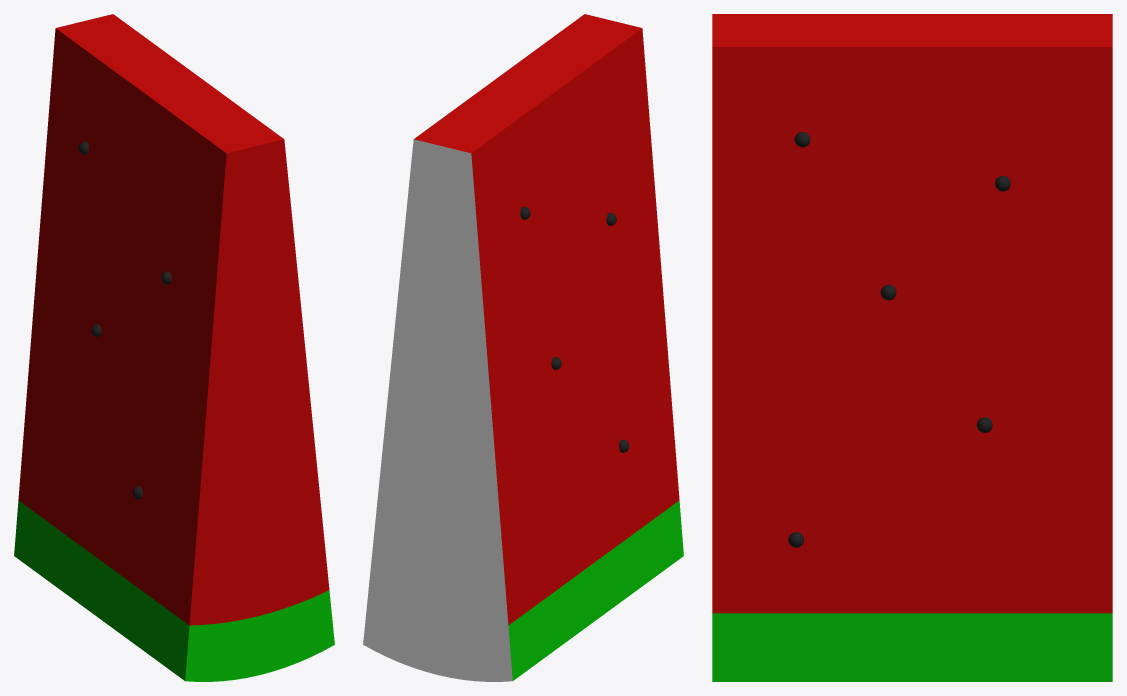
File: Watermelon Wall (1).fbx
3 renders of one model, left to right at view 1: azimuth 30°, elevation 25°; view 2: azimuth 150°, elevation 25°; view 3: azimuth 270°, elevation 25°, orthographic. The views are drawn at different scales.
Visible parts, largest first — view 1: Model; view 2: Model; view 3: Model.
Part boxes in pixels (x1=…): Model: x1=14, y1=14, x2=334, y2=681; Model: x1=363, y1=14, x2=683, y2=681; Model: x1=712, y1=14, x2=1112, y2=681.
Bounding box in the file's own units: 77.81 × 263 × 154.
